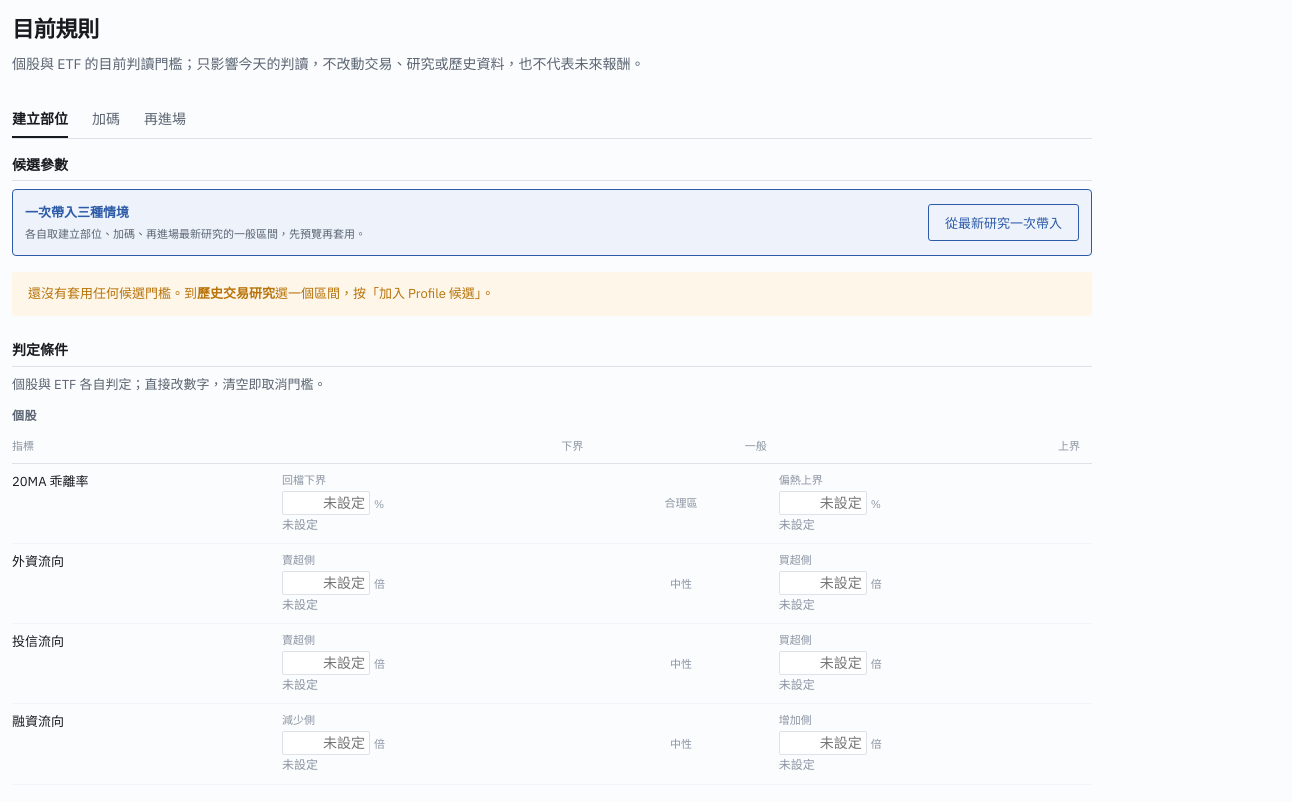
Test: 情境 Profile › 有未儲存手動調整時停用批次帶入，避免靜默覆蓋
The width and height of the screenshot is (1292, 802).
Type "-5" into the field named "門檻值" at (326, 503), box [282,491,370,515]
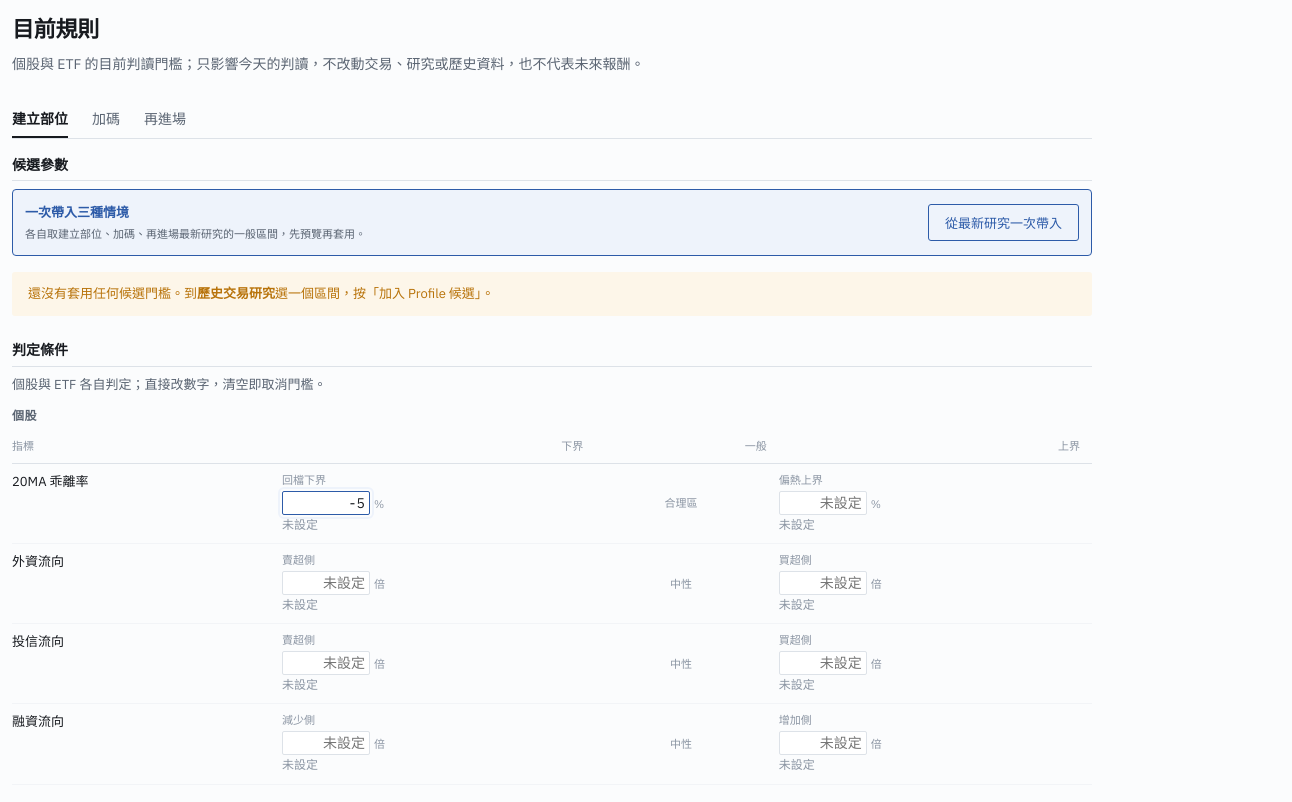
Press Tab
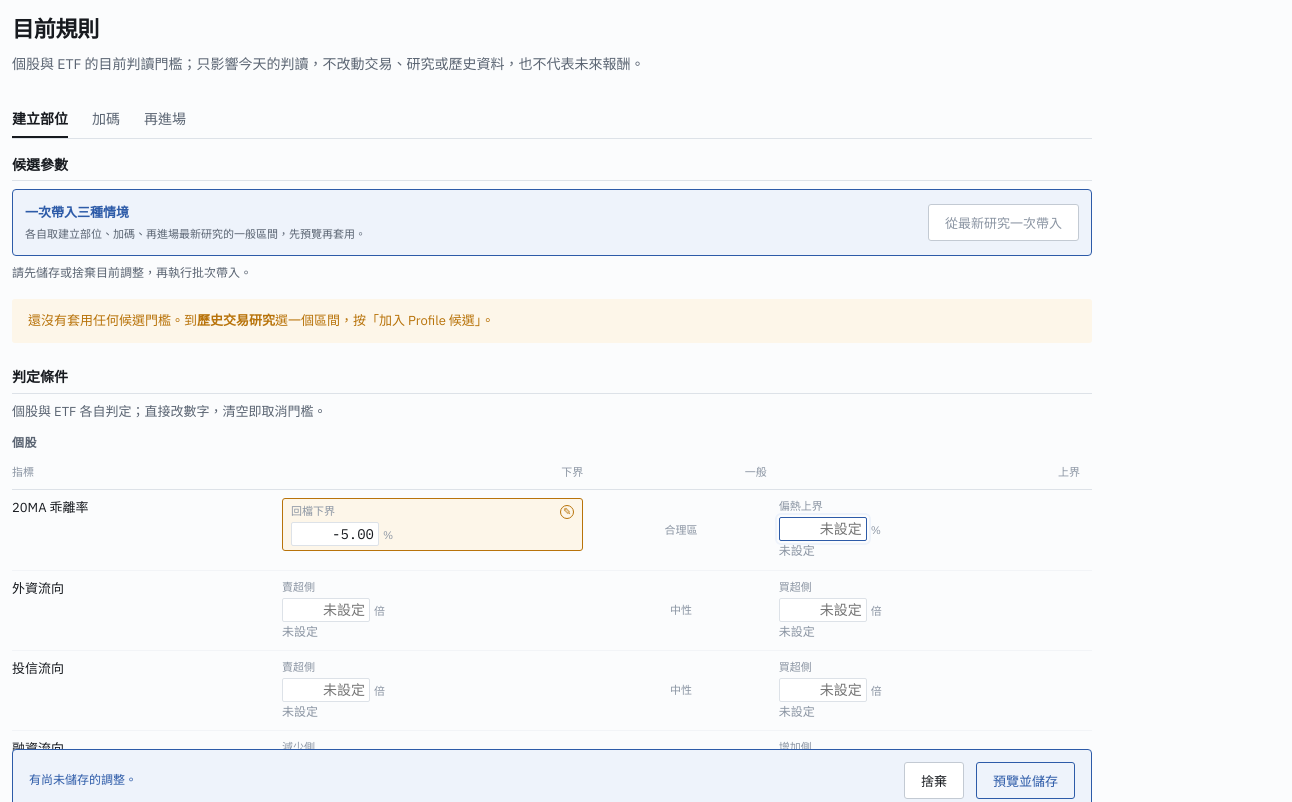
Result: the button "從最新研究一次帶入" is disabled at [928,204,1079,241]
Result: the text "請先儲存或捨棄目前調整，再執行批次帶入。" is shown at [12,265,252,280]
